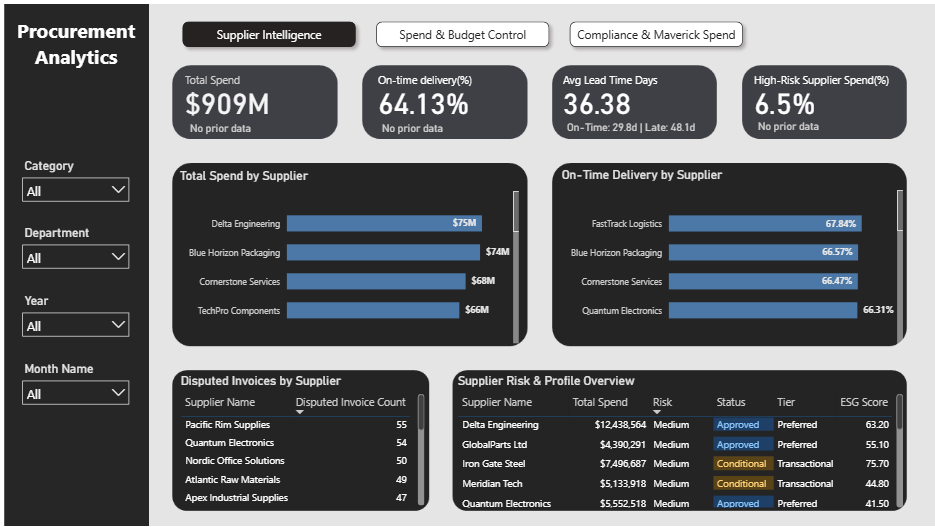

What the dashboard file says about the page in this screenshot:
{"tool":"powerbi","page":{"name":"Supplier Intelligence","canvas":[1280,720],"ordinal":0},"visuals":[{"type":"cardVisual","fields":{"Data":["_Key_Measures.On-time delivery(%)"]},"box":[509.2,93.6,200.9,92.2],"z":0},{"type":"cardVisual","fields":{"Data":["_Key_Measures.Avg Lead Time Days"]},"box":[763.9,93.6,210.6,90.8],"z":1000},{"type":"cardVisual","fields":{"Data":["_Key_Measures.High-Risk Supplier Spend(%)"]},"box":[1026.8,93.6,213.3,90.8],"z":2000},{"type":"cardVisual","fields":{"Data":["_Key_Measures.Total Spend"]},"box":[245,93.6,209.2,90.8],"z":3000},{"type":"clusteredBarChart","title":"Total Spend by Supplier","fields":{"Category":["Data.Supplier Name"],"Y":["_Key_Measures.Total Spend"]},"box":[236.7,225.7,476.2,246.4],"z":4000},{"type":"clusteredBarChart","title":"On-Time Delivery by Supplier","fields":{"Category":["Data.Supplier Name"],"Y":["_Key_Measures.On-time delivery(%)"]},"box":[761.1,224.3,479,249.1],"z":5000},{"type":"tableEx","title":"Disputed Invoices by Supplier","fields":{"Values":["Data.Supplier Name","CountNonNull(Data.Invoice Status)"]},"box":[238.1,506.5,345.5,187.2],"z":6000},{"type":"tableEx","title":"Supplier Risk & Profile Overview","fields":{"Values":["Data.Supplier Name","_Key_Measures.Total Spend","Data.Supplier Risk","Data.Supplier Status","Data.Supplier Tier","Data.Supplier ESG Score"]},"box":[618,506.5,622.1,189.9],"z":7000},{"type":"slicer","fields":{"Values":["Data.Category"]},"box":[15.1,207.5,166.5,70.2],"z":8000},{"type":"slicer","fields":{"Values":["Data.Department"]},"box":[15.1,299.5,166.5,71.6],"z":9000},{"type":"slicer","fields":{"Values":["Calendar.Year"]},"box":[15.1,393,166.5,71.6],"z":10000},{"type":"slicer","fields":{"Values":["Calendar.Month Name"]},"box":[15.1,486.5,166.5,71.6],"z":11000},{"type":"cardVisual","fields":{"Data":["_Key_Measures.Total Spend Context"]},"box":[251.9,162.4,214.7,22],"z":12000},{"type":"cardVisual","fields":{"Data":["_Key_Measures.Lead Time Context"]},"box":[769.4,161,224.3,19.3],"z":13000},{"type":"cardVisual","fields":{"Data":["_Key_Measures.OTD% Context"]},"box":[514.8,162.4,214.7,22],"z":14000},{"type":"cardVisual","fields":{"Data":["_Key_Measures.High Risk Supplier Spend(%) Context"]},"box":[1032.3,159.7,224.3,19.3],"z":15000},{"type":"pageNavigator","box":[236.7,15.1,790,53.7],"z":16000},{"type":"textbox","box":[0,12.4,198.2,93.6],"z":17000}]}

Visuals, with their boxes in screenshot pixels (x1, y1, x2, y2), scaled from the page's 1280x720 canvas onto the 935x527 screenshot:
cardVisual - _Key_Measures.On-time delivery(%): x1=372 y1=69 x2=519 y2=136
cardVisual - _Key_Measures.Avg Lead Time Days: x1=558 y1=69 x2=712 y2=135
cardVisual - _Key_Measures.High-Risk Supplier Spend(%): x1=750 y1=69 x2=906 y2=135
cardVisual - _Key_Measures.Total Spend: x1=179 y1=69 x2=332 y2=135
"Total Spend by Supplier" clusteredBarChart: x1=173 y1=165 x2=521 y2=346
"On-Time Delivery by Supplier" clusteredBarChart: x1=556 y1=164 x2=906 y2=347
"Disputed Invoices by Supplier" tableEx: x1=174 y1=371 x2=426 y2=508
"Supplier Risk & Profile Overview" tableEx: x1=451 y1=371 x2=906 y2=510
slicer - Data.Category: x1=11 y1=152 x2=133 y2=203
slicer - Data.Department: x1=11 y1=219 x2=133 y2=272
slicer - Calendar.Year: x1=11 y1=288 x2=133 y2=340
slicer - Calendar.Month Name: x1=11 y1=356 x2=133 y2=408
cardVisual - _Key_Measures.Total Spend Context: x1=184 y1=119 x2=341 y2=135
cardVisual - _Key_Measures.Lead Time Context: x1=562 y1=118 x2=726 y2=132
cardVisual - _Key_Measures.OTD% Context: x1=376 y1=119 x2=533 y2=135
cardVisual - _Key_Measures.High Risk Supplier Spend(%) Context: x1=754 y1=117 x2=918 y2=131
pageNavigator: x1=173 y1=11 x2=750 y2=50
textbox: x1=0 y1=9 x2=145 y2=78
